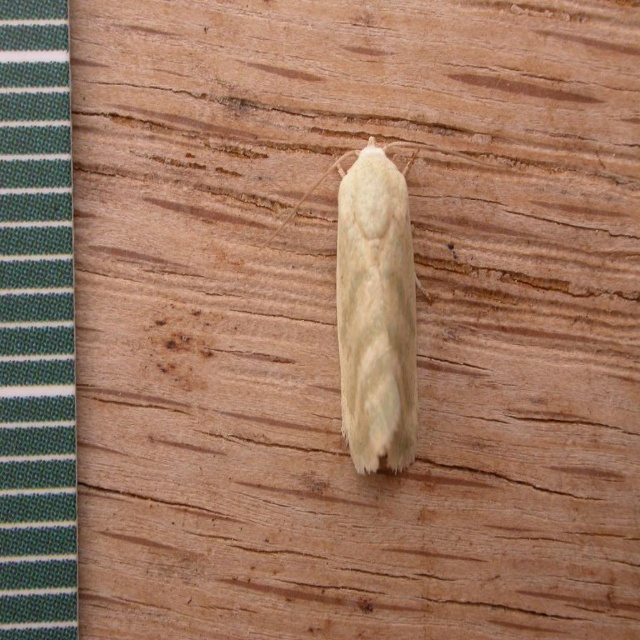Moths and butterflies: (252, 132, 500, 479)
